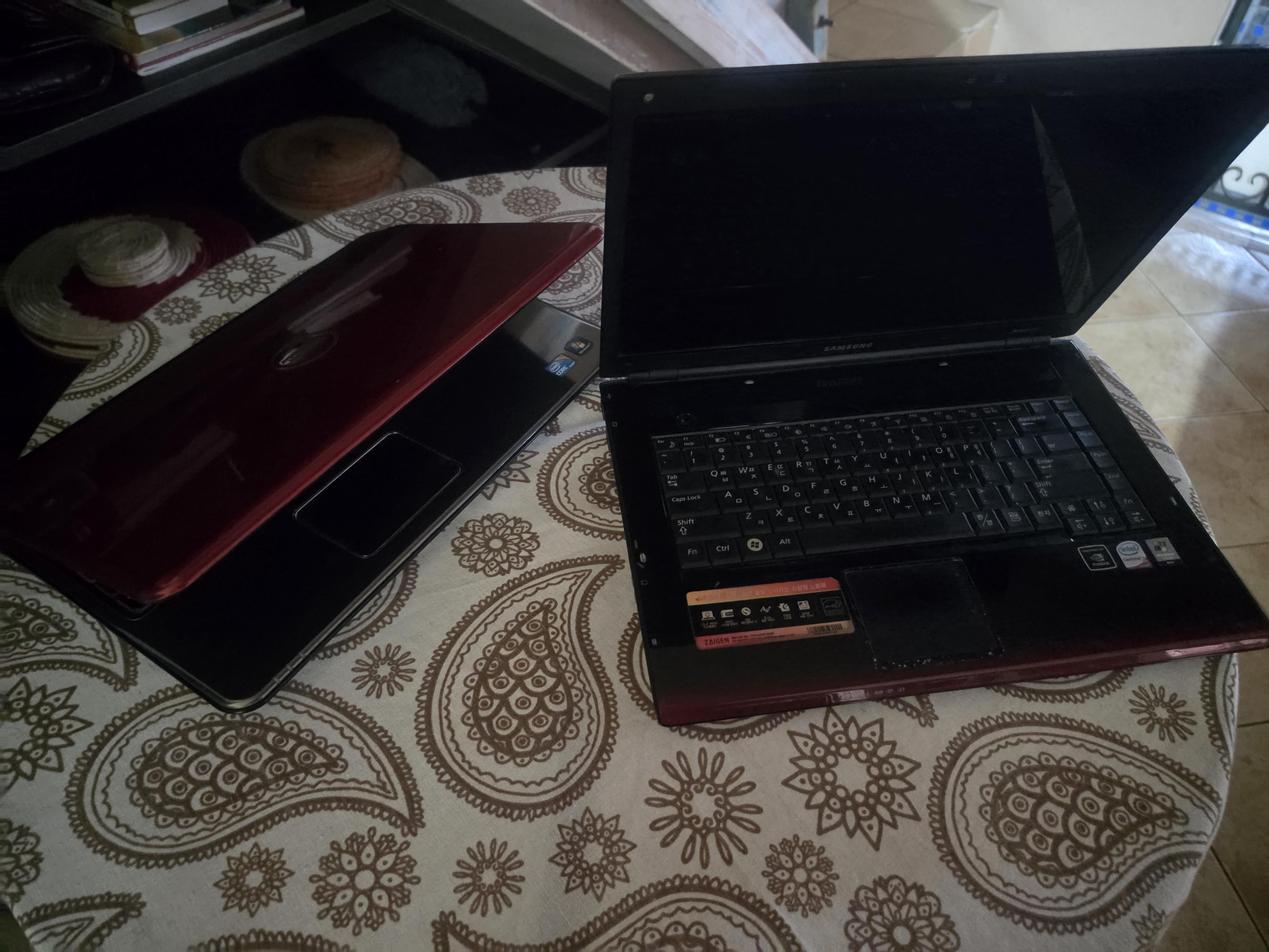laptop: (599, 45, 1269, 728), (0, 221, 604, 711)
